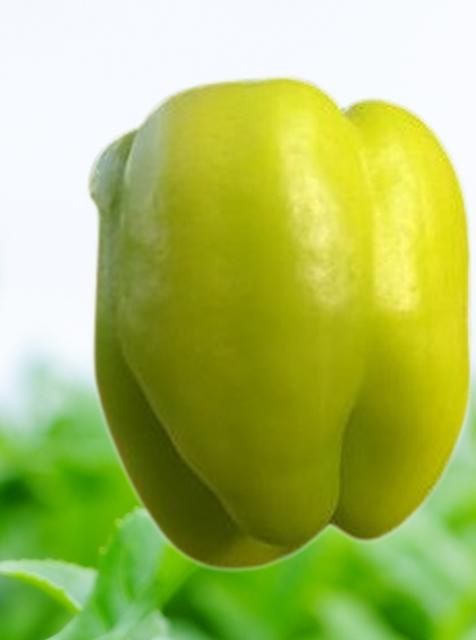bell_pepper: (84, 72, 472, 571)
